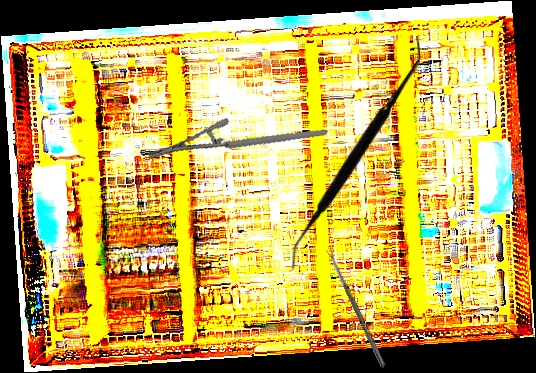Needle Holder: (146, 94, 328, 195)
Spatula Surgical: (291, 36, 420, 270)
Surgical Spoon: (326, 247, 387, 369)
